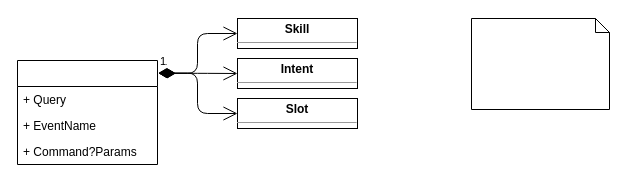
This 627x185 diagram has some shape labels left out. Here are the shapes that lost their labels. From the top down, the box of each, then its label:
(470, 18, 610, 110): 单轮 操作 查询
(16, 60, 158, 164): SpeechEvent
